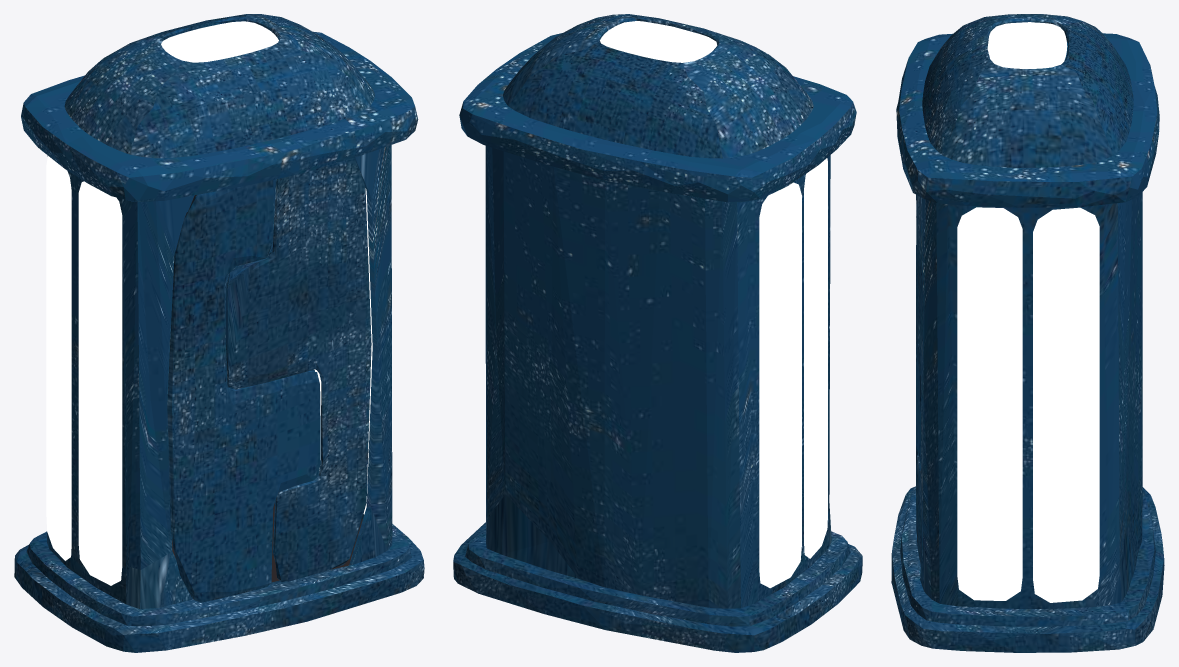
File: Nav_004.fbx
3 views of the same model, side by side, from view 1: azimuth 30°, elevation 25°; view 2: azimuth 150°, elevation 25°; view 3: azimuth 270°, elevation 25° (orthographic).
Visible parts, largest first — view 1: Nav_Corpo, Nav_portaS, Nav_portaD; view 2: Nav_Corpo; view 3: Nav_Corpo, Nav_portaD, Nav_portaS.
Part boxes in pixels (box(x1,y1,x2,y2)): Nav_Corpo: box(14, 14, 424, 652); Nav_portaS: box(167, 180, 320, 602); Nav_portaD: box(225, 157, 371, 582); Nav_Corpo: box(453, 14, 862, 652); Nav_Corpo: box(891, 14, 1164, 652); Nav_portaD: box(916, 195, 923, 565); Nav_portaS: box(916, 195, 921, 534).
Size of the model in its own units: 144 by 224 by 104.
